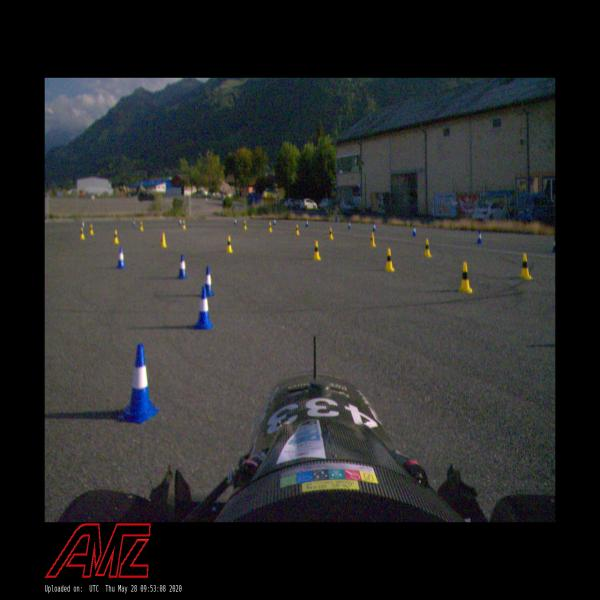blue_cone: (117, 344, 160, 424), (194, 286, 214, 330), (204, 267, 214, 297), (177, 254, 188, 279), (116, 248, 126, 268), (477, 231, 483, 244), (412, 225, 417, 237), (372, 222, 375, 232), (82, 219, 85, 228), (133, 220, 136, 227), (179, 219, 182, 226), (234, 218, 237, 225), (348, 222, 351, 229), (306, 220, 308, 227), (274, 219, 276, 225)
yellow_cone: (458, 262, 473, 294), (519, 253, 533, 280), (384, 248, 394, 272), (313, 240, 321, 260), (424, 239, 431, 258), (226, 236, 233, 253), (113, 230, 119, 245), (161, 233, 167, 247), (370, 233, 376, 247), (328, 228, 334, 240), (89, 222, 94, 235), (80, 227, 85, 240), (295, 224, 300, 235), (182, 220, 186, 230), (268, 222, 272, 232), (140, 222, 144, 231), (244, 221, 247, 230)
